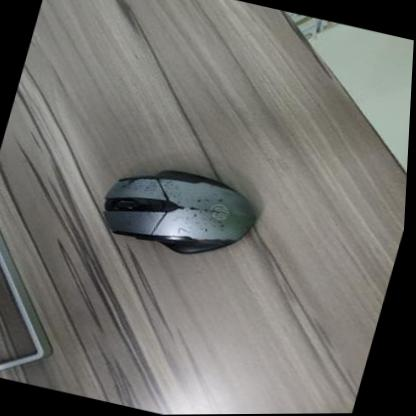mouserotation: (93, 155, 268, 269)
